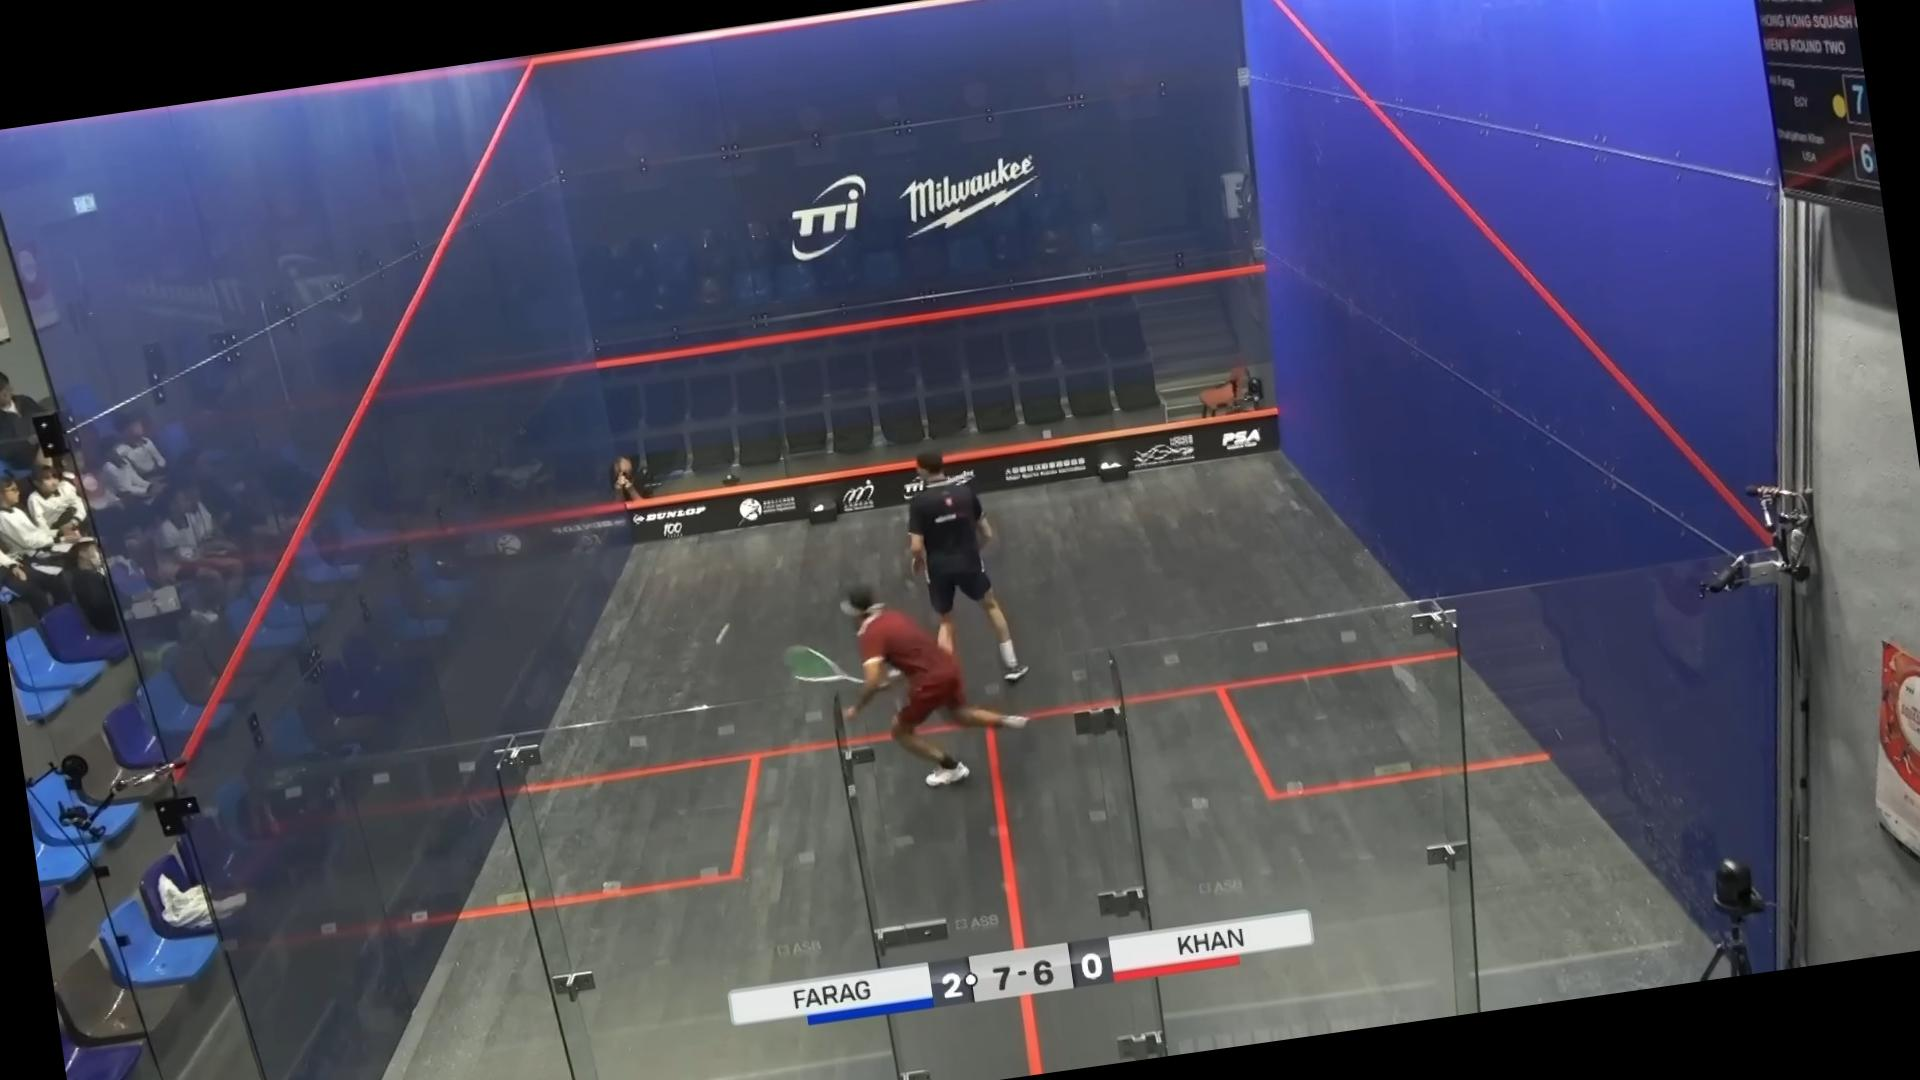Racket: (777, 632, 865, 695)
